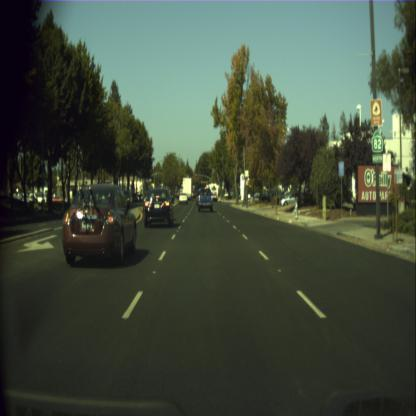Red: (194, 174, 196, 178)
